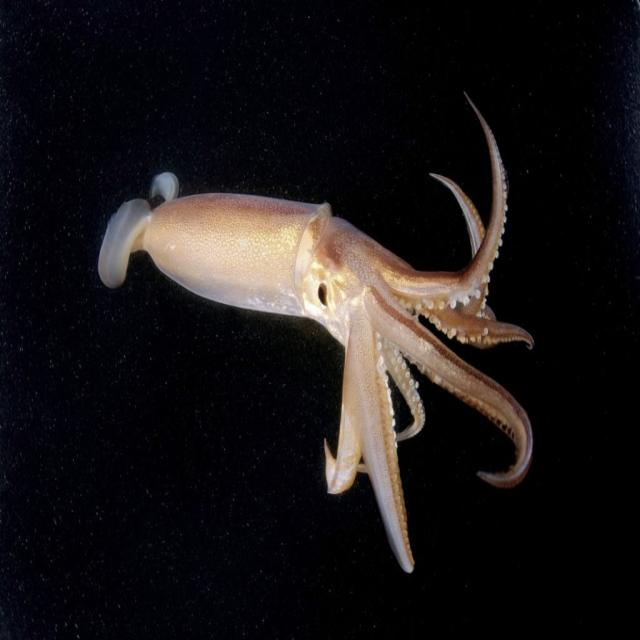squid: (98, 104, 533, 571)
